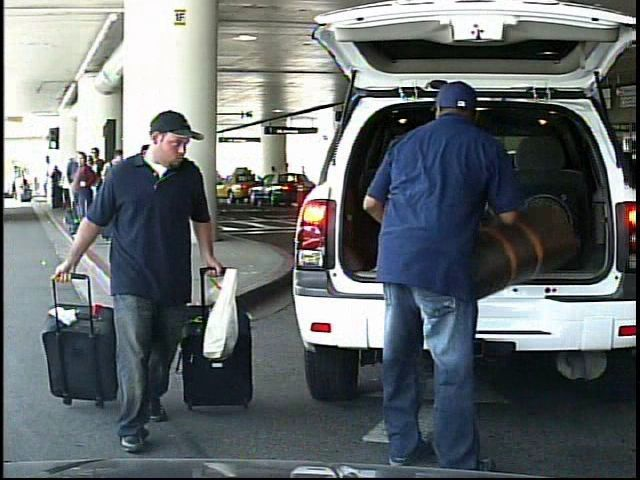person: (351, 81, 537, 476), (85, 110, 244, 443), (280, 162, 292, 199), (14, 172, 25, 203)
